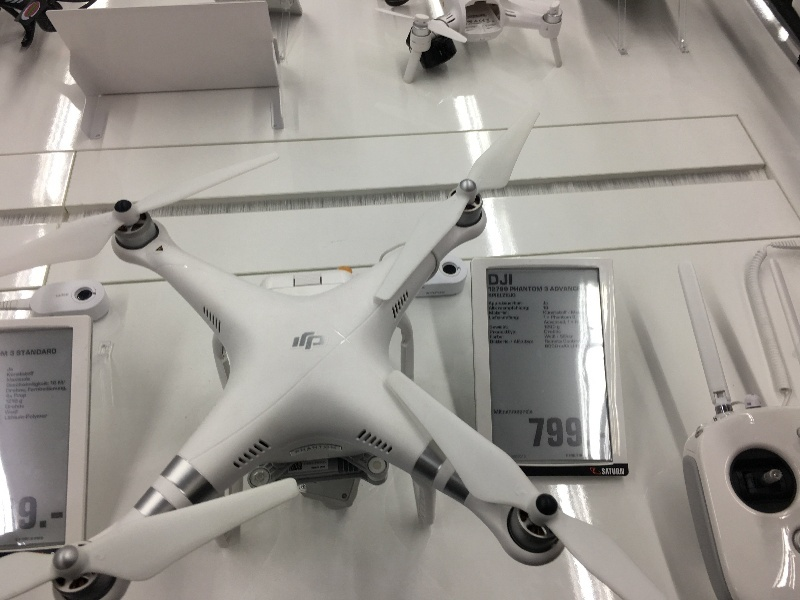text: (545, 311, 560, 349), (561, 311, 576, 349), (49, 497, 65, 532), (33, 497, 48, 532), (18, 497, 32, 532), (529, 418, 544, 447), (545, 418, 560, 447), (561, 418, 576, 447), (305, 332, 320, 350), (17, 394, 27, 415), (293, 332, 304, 350), (7, 394, 16, 415), (497, 275, 512, 286), (17, 372, 32, 382), (577, 418, 582, 447), (305, 461, 320, 470), (17, 380, 32, 388), (33, 380, 48, 388), (49, 380, 64, 388), (577, 311, 580, 349), (609, 468, 625, 475), (17, 349, 32, 356), (33, 349, 48, 356), (17, 386, 32, 393), (33, 386, 48, 393), (49, 386, 64, 393), (17, 414, 32, 421), (33, 414, 47, 421), (497, 409, 512, 415), (513, 409, 528, 415), (321, 332, 326, 350), (1, 351, 16, 357), (4, 414, 16, 421), (8, 372, 16, 382), (561, 287, 577, 292), (489, 275, 496, 286), (513, 287, 528, 292), (497, 330, 512, 335), (545, 287, 560, 292), (7, 380, 16, 388), (529, 287, 542, 292), (7, 386, 16, 393), (497, 294, 512, 298), (497, 301, 512, 305), (497, 307, 512, 311), (513, 307, 528, 311), (497, 316, 512, 320), (497, 340, 512, 344), (513, 340, 528, 344), (49, 349, 57, 356), (497, 287, 508, 292), (513, 455, 526, 459), (497, 325, 507, 330), (551, 287, 560, 292), (321, 461, 326, 470), (497, 311, 508, 315), (602, 468, 608, 475), (8, 367, 16, 372), (433, 292, 445, 295), (545, 301, 549, 310), (489, 287, 496, 292), (513, 301, 521, 305), (11, 351, 16, 357), (490, 325, 496, 330), (490, 330, 496, 335), (489, 294, 496, 298), (489, 311, 496, 315), (497, 335, 504, 339), (490, 301, 496, 305), (490, 307, 496, 311), (490, 316, 496, 320), (490, 335, 496, 339), (529, 409, 533, 415), (513, 316, 518, 320), (513, 330, 517, 335), (491, 340, 496, 344), (427, 292, 432, 295), (65, 386, 67, 393), (513, 294, 516, 298), (529, 340, 532, 344), (494, 409, 496, 415), (33, 372, 34, 382), (510, 287, 512, 292), (543, 301, 544, 310), (65, 380, 66, 388), (511, 455, 512, 459)
